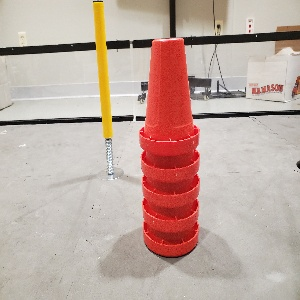Red_5: (139, 37, 199, 255)
